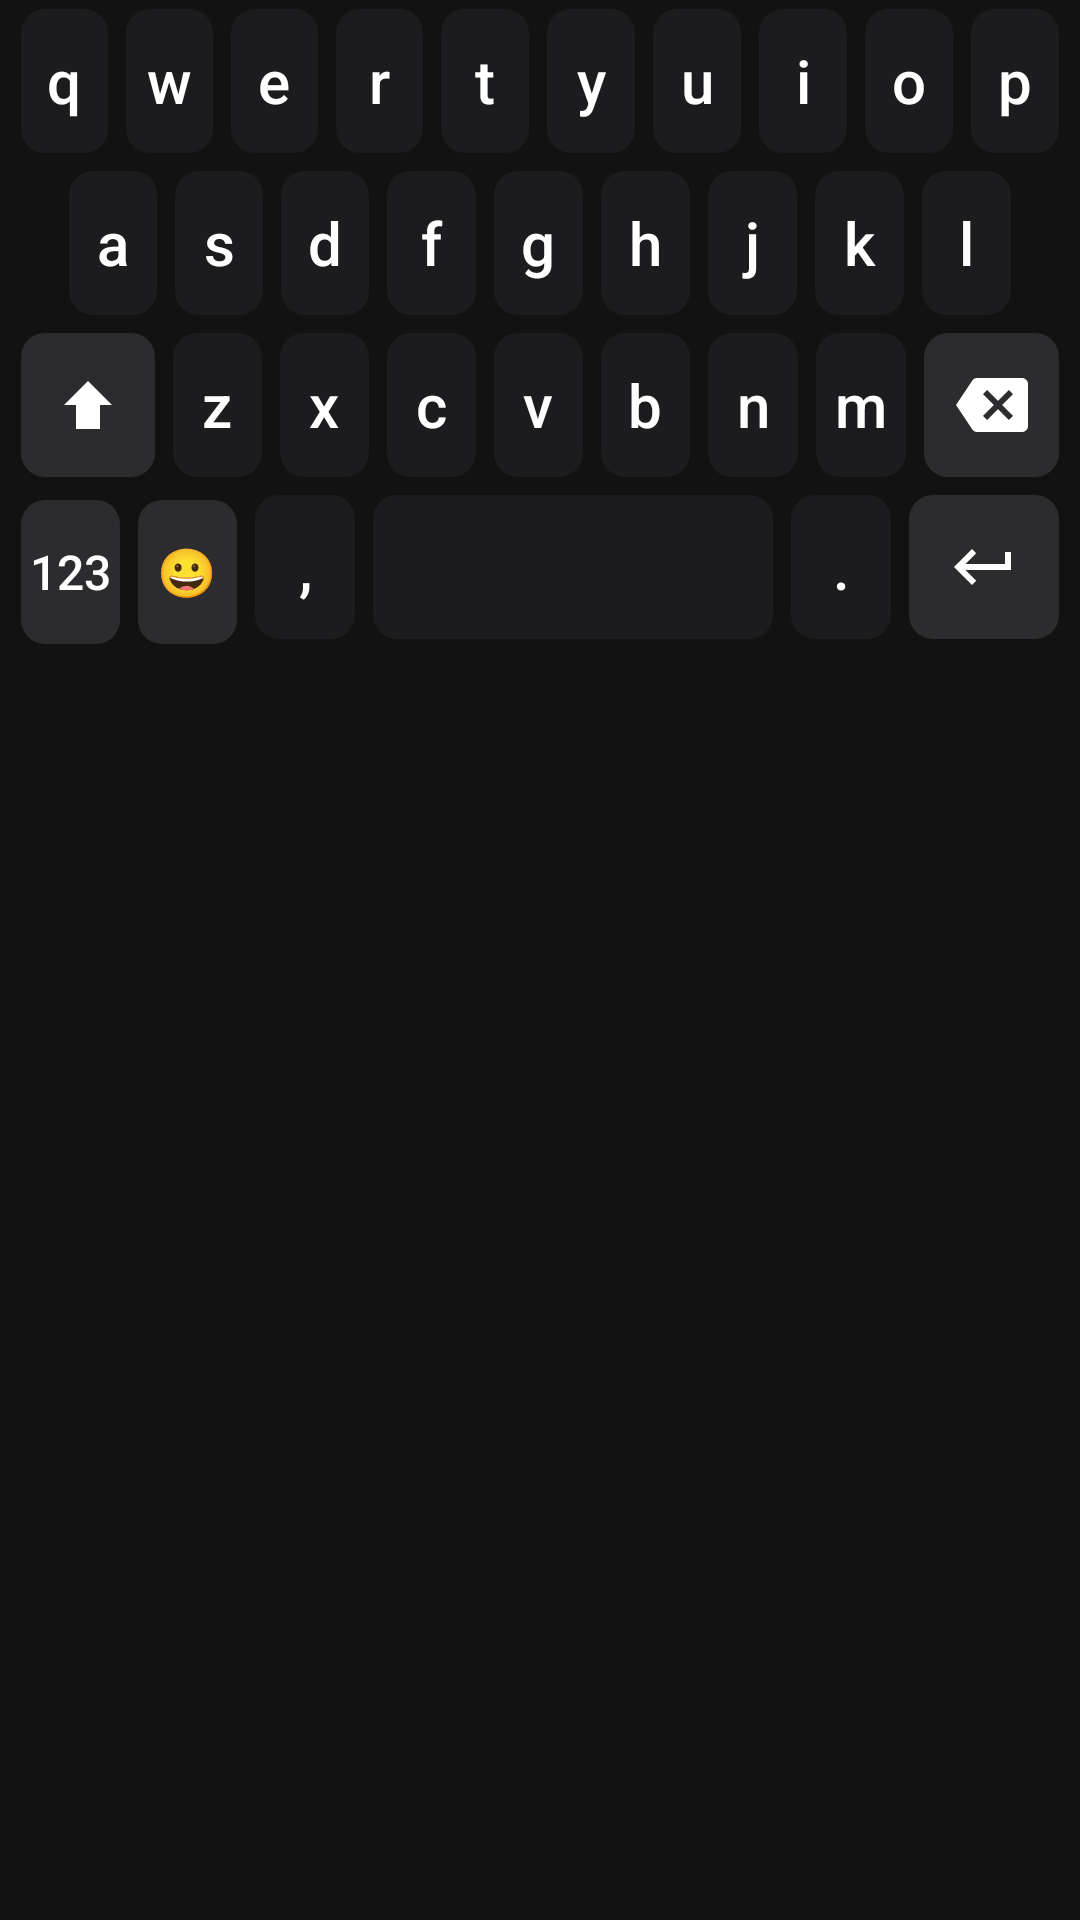

Icon bounding boxes for this 1080px×1920px phone screenshot, format (x1, y1, x2, y2):
Backspace: (924, 333, 1059, 477)
Enter: (909, 495, 1059, 639)
Shift: (21, 333, 155, 477)
